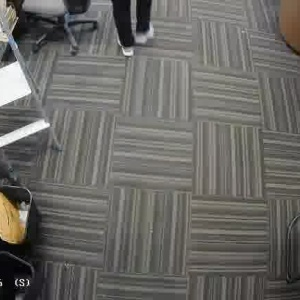person: (106, 0, 158, 65)
